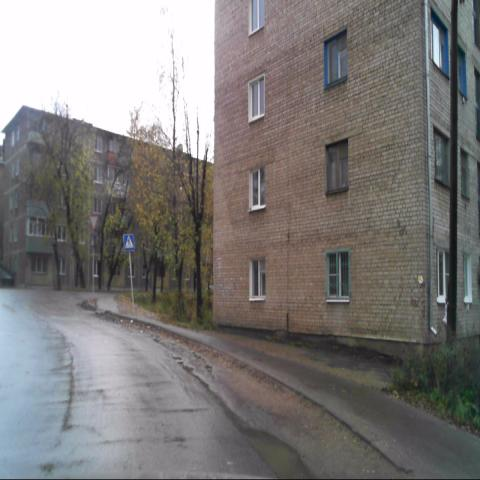2_4: (88, 215, 99, 230)
5_19_1: (122, 233, 134, 252)
